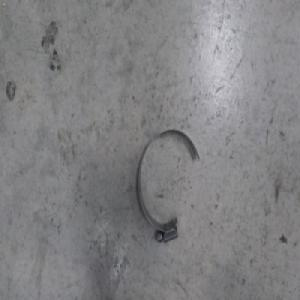AdjustableClamp: (136, 129, 200, 244)
